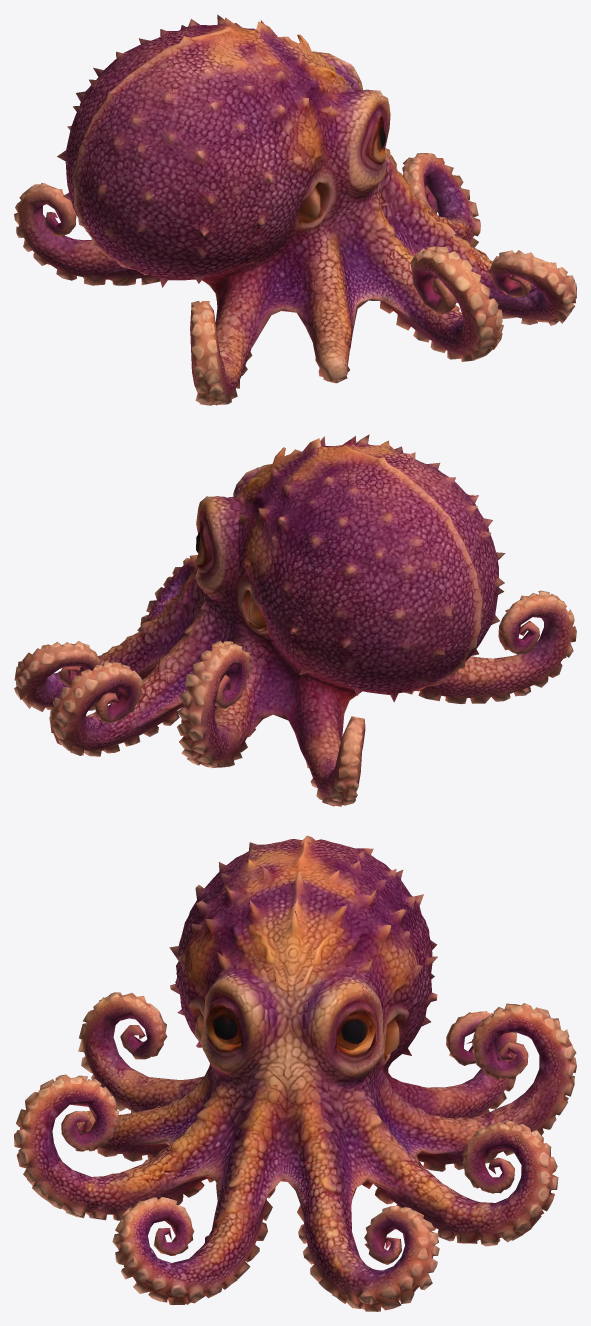
File: oktopus.glb
The picture shows the model from 3 angles, top to bottom: view 1: azimuth 30°, elevation 25°; view 2: azimuth 150°, elevation 25°; view 3: azimuth 270°, elevation 25°; orthographic projection. The views are drawn at different scales.
Parts seen in each view (by area): view 1: tripo_node_df7f701e-0d24-45c1-a407-47bafcb79a46; view 2: tripo_node_df7f701e-0d24-45c1-a407-47bafcb79a46; view 3: tripo_node_df7f701e-0d24-45c1-a407-47bafcb79a46.
Boxes of the visible parts, x1=… form: tripo_node_df7f701e-0d24-45c1-a407-47bafcb79a46: x1=14, y1=14, x2=576, y2=405; tripo_node_df7f701e-0d24-45c1-a407-47bafcb79a46: x1=14, y1=434, x2=576, y2=806; tripo_node_df7f701e-0d24-45c1-a407-47bafcb79a46: x1=14, y1=835, x2=576, y2=1311.
Size of the model in its own units: 0.7311 by 0.5 by 0.7886.
Materials: 1 (1 with a texture image).
